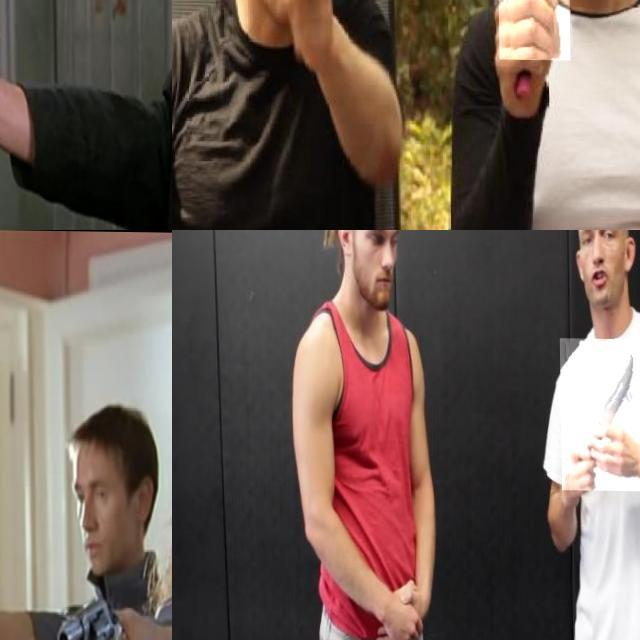-: (559, 336, 640, 489), (495, 0, 569, 116)
gun-knife-thesis - v11 Yolov5 augmented: (49, 533, 142, 640), (0, 0, 56, 119), (0, 579, 32, 640)
